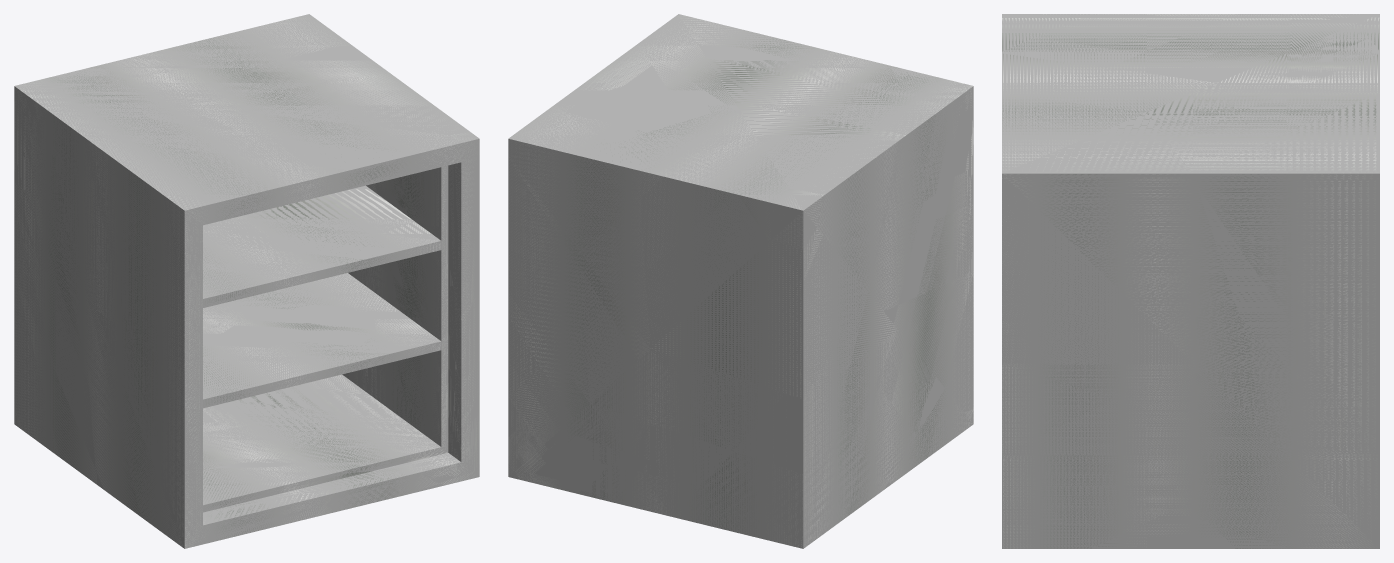
Rendered from frame.dae.
The picture shows the model from 3 angles, left to right: view 1: azimuth 30°, elevation 25°; view 2: azimuth 150°, elevation 25°; view 3: azimuth 270°, elevation 25°; orthographic projection. The views are drawn at different scales.
Parts seen in each view (by area): view 1: instance_24.009, instance_24.011, instance_24.010, instance_24.013, instance_24.012; view 2: instance_24.009; view 3: instance_24.009.
Boxes of the visible parts, x1,y1,x2,y2 form: instance_24.009: (14,14,479,548); instance_24.011: (203,350,441,505); instance_24.010: (203,250,441,399); instance_24.013: (203,167,441,298); instance_24.012: (203,162,461,525); instance_24.009: (508,14,973,548); instance_24.009: (1002,14,1379,548).
Size of the model in its own units: 2.17 by 2.17 by 2.37.
Materials: 2 (1 with a texture image).
